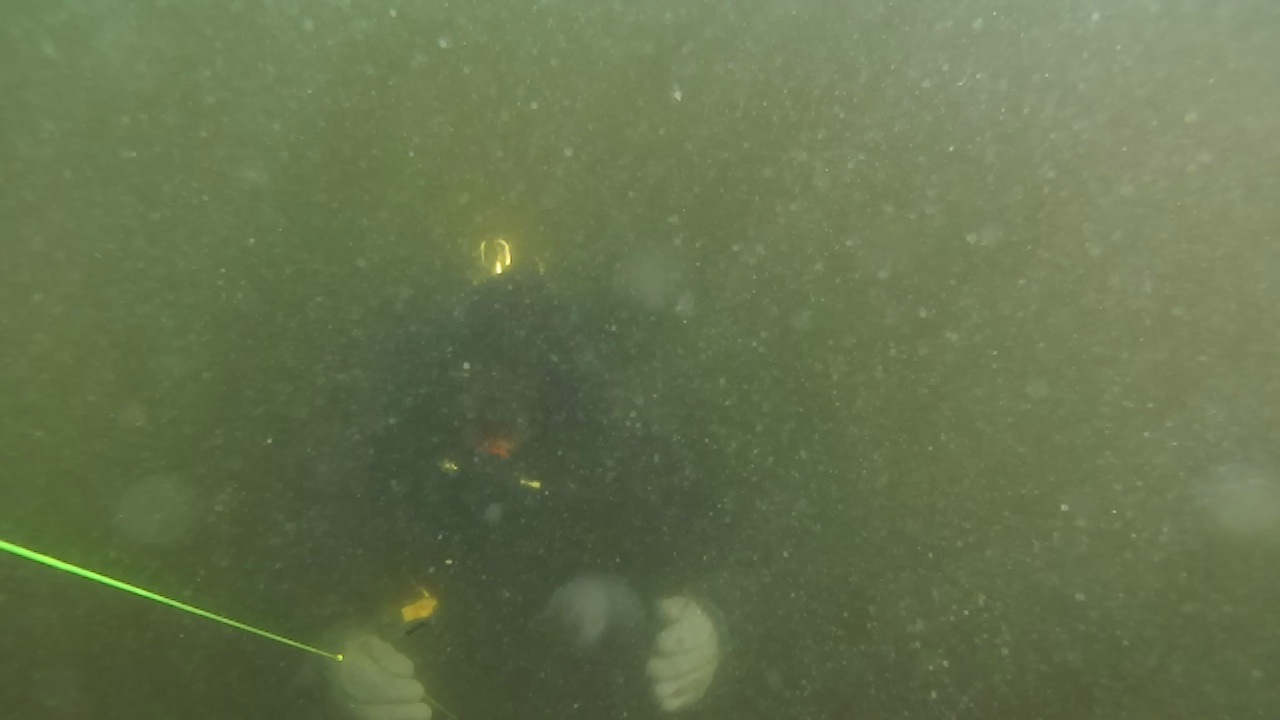Hand: (596, 564, 784, 692)
Head: (378, 230, 604, 524)
